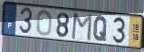3: (111, 16, 127, 46), (18, 6, 34, 36)
8: (56, 12, 70, 38)
M: (70, 12, 94, 43)
O: (36, 9, 53, 37)
Q: (92, 15, 108, 43)
